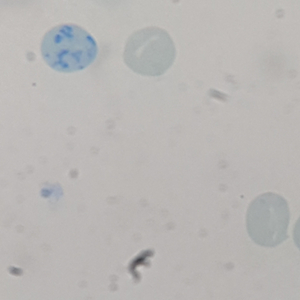aggregate reticulocyte: (38, 21, 100, 75)
erythrocyte: (121, 24, 178, 79), (244, 191, 293, 249)
